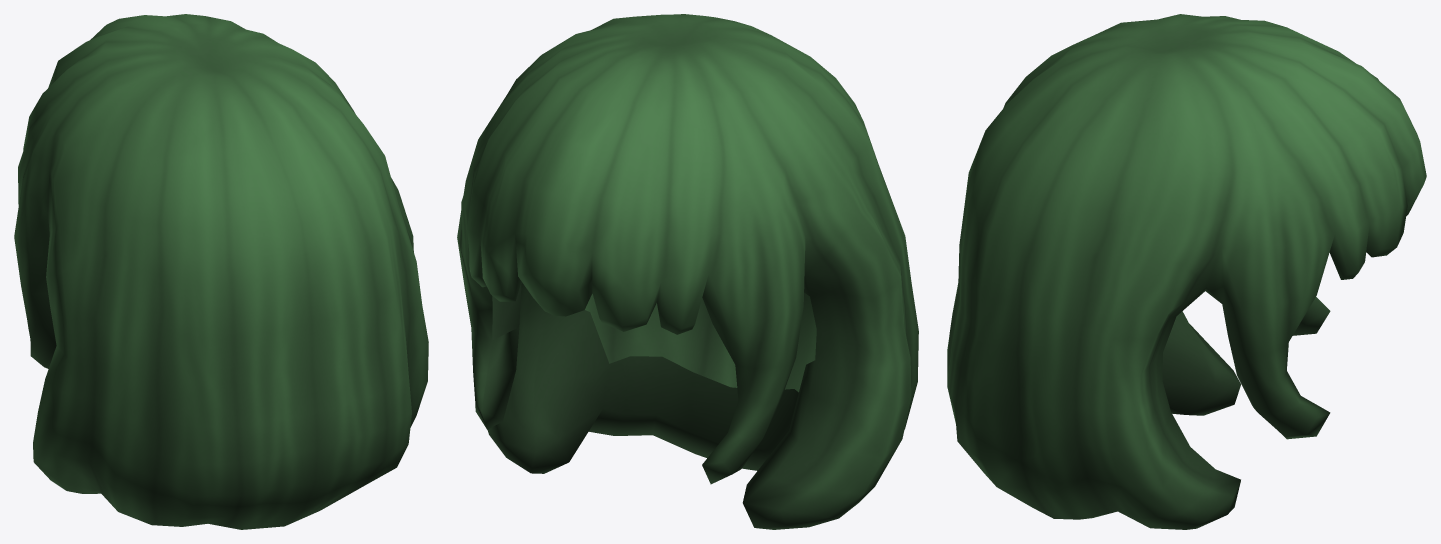
File: Hair_Female_001_textured_green.glb
3 views of the same model, side by side, from view 1: azimuth 30°, elevation 25°; view 2: azimuth 150°, elevation 25°; view 3: azimuth 270°, elevation 25° (orthographic). The views are drawn at different scales.
Parts seen in each view (by area): view 1: Hair_Female_001; view 2: Hair_Female_001; view 3: Hair_Female_001.
Part boxes in pixels (x1,y1,x2,y2): Hair_Female_001: (14, 14, 428, 529); Hair_Female_001: (457, 14, 918, 529); Hair_Female_001: (947, 14, 1426, 529).
Bounding box in the file's own units: 0.2205 × 0.2446 × 0.236.
1 material, 1 textured.
